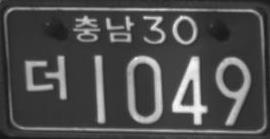0: (124, 53, 165, 125), (171, 14, 198, 46)
1: (86, 53, 114, 126)
3: (141, 14, 166, 45)
4: (169, 54, 208, 126)
9: (213, 55, 253, 127)
더: (23, 54, 69, 101)
충남_O: (72, 14, 135, 43)
